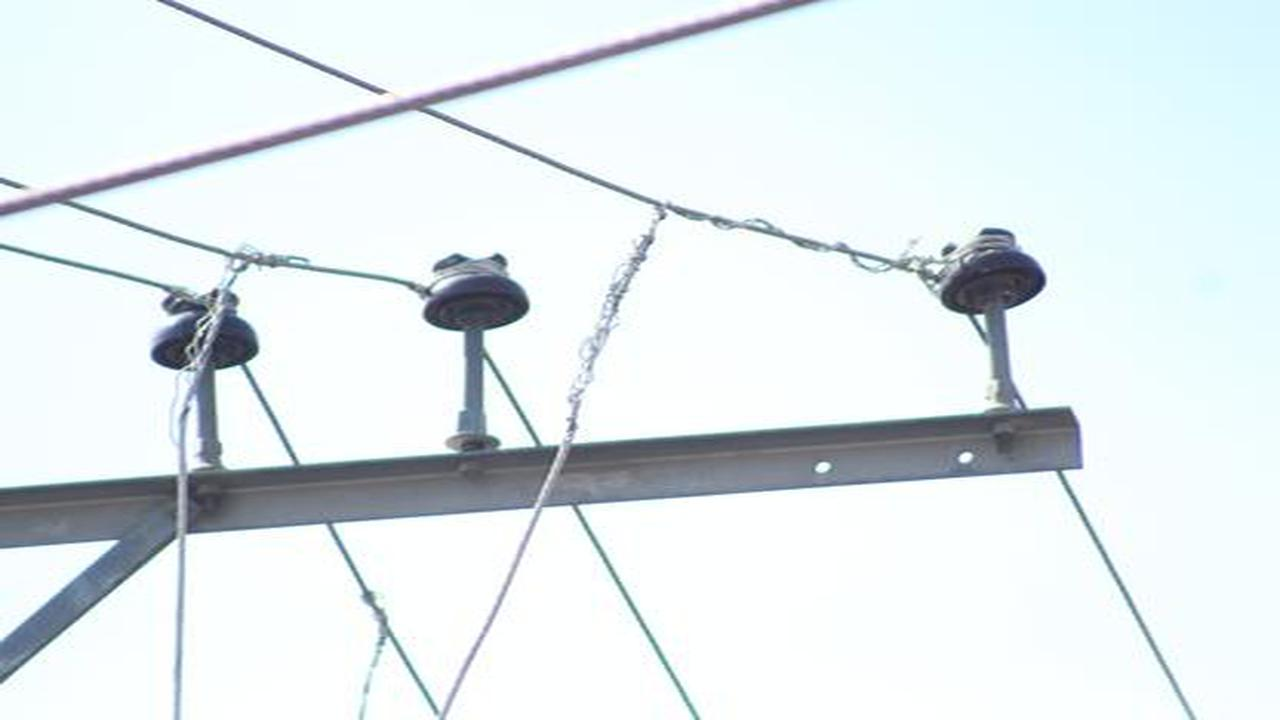insulator_pin: (931, 222, 1055, 317), (145, 281, 263, 376), (418, 244, 536, 332)
